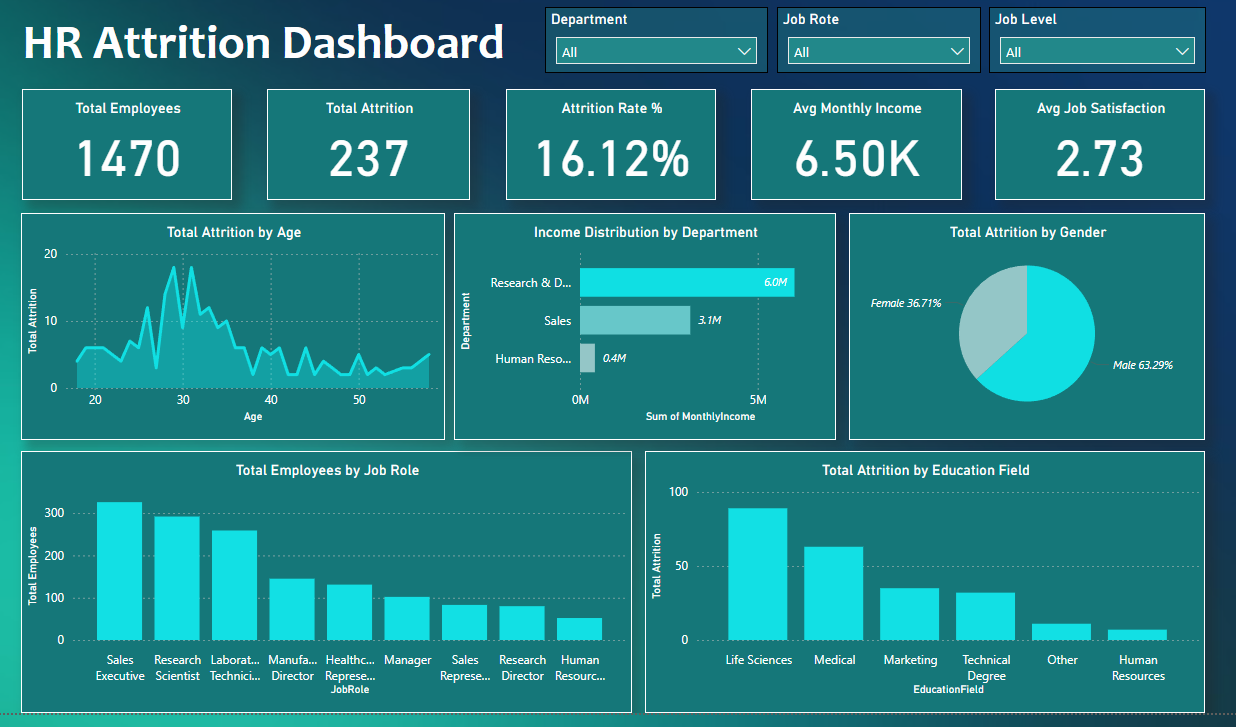

The page's visual inventory and layout, read from the dashboard file:
{"tool":"powerbi","page":{"name":"Overview Dashboard","canvas":[1280,720],"ordinal":0},"visuals":[{"type":"textbox","box":[0,13.7,570.5,86.9],"z":0},{"type":"slicer","title":"Department","fields":{"Values":["dataset.Department"]},"box":[566.9,13.7,223.1,66.7],"z":1000},{"type":"slicer","title":"Job Rote","fields":{"Values":["dataset.JobRole"]},"box":[799.1,13.7,203.9,66.7],"z":2000},{"type":"slicer","title":"Job Level","fields":{"Values":["dataset.JobLevel"]},"box":[1011.2,13.7,216.7,66.7],"z":3000},{"type":"card","title":"Total Employees","fields":{"Values":["dataset.Total Employees"]},"box":[43.9,96.1,210.3,110.6],"z":4000},{"type":"card","title":"Total Attrition","fields":{"Values":["dataset.Total Attrition"]},"box":[288.9,96.1,203,110.6],"z":5000},{"type":"card","title":"Attrition Rate %","fields":{"Values":["dataset.Attrition Rate %"]},"box":[527.5,96.1,210.3,110.6],"z":6000},{"type":"card","title":"Avg Monthly Income","fields":{"Values":["dataset.Average Monthly Income"]},"box":[773.5,96.1,210.3,110.6],"z":7000},{"type":"card","title":"Avg Job Satisfaction","fields":{"Values":["dataset.Avg Job Satisfaction"]},"box":[1016.7,96.1,210.3,110.6],"z":8000},{"type":"lineChart","fields":{"Category":["dataset.Age"],"Y":["dataset.Total Attrition"]},"box":[43,220.3,424.2,226.7],"z":9000},{"type":"columnChart","title":"Total Employees by Job Role","fields":{"Y":["dataset.Total Employees"],"Category":["dataset.JobRole"]},"box":[43,458.1,610.7,262.4],"z":10000},{"type":"clusteredBarChart","title":"Income Distribution by Department","fields":{"Category":["dataset.Department"],"Y":["Sum(dataset.MonthlyIncome)"]},"box":[476.3,220.3,381.3,226.7],"z":11000},{"type":"pieChart","fields":{"Category":["dataset.Gender"],"Y":["dataset.Total Attrition"]},"box":[871.3,220.3,355.7,226.7],"z":12000},{"type":"lineStackedColumnComboChart","title":"Total Attrition by Education Field","fields":{"Category":["dataset.EducationField"],"Y":["dataset.Total Attrition"]},"box":[667.4,458.1,559.5,262.4],"z":13000}]}

Visuals, with their boxes in screenshot pixels (x1, y1, x2, y2):
textbox: [0, 7, 550, 93]
"Department" slicer: [547, 7, 767, 73]
"Job Rote" slicer: [776, 7, 977, 73]
"Job Level" slicer: [985, 7, 1199, 73]
"Total Employees" card: [30, 88, 238, 198]
"Total Attrition" card: [272, 88, 473, 198]
"Attrition Rate %" card: [508, 88, 716, 198]
"Avg Monthly Income" card: [751, 88, 958, 198]
"Avg Job Satisfaction" card: [991, 88, 1199, 198]
lineChart - dataset.Age x dataset.Total Attrition: [30, 211, 448, 435]
"Total Employees by Job Role" columnChart: [30, 446, 633, 705]
"Income Distribution by Department" clusteredBarChart: [457, 211, 834, 435]
pieChart - dataset.Gender x dataset.Total Attrition: [847, 211, 1199, 435]
"Total Attrition by Education Field" lineStackedColumnComboChart: [646, 446, 1198, 705]
